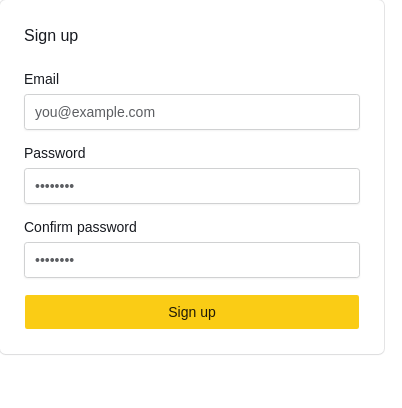
Test: RegisterForm › shows an error when the password is too short
The width and height of the screenshot is (402, 408).
Type "a@example.com" into the field labelled "Email" at x=192, y=112, box [24,94,360,130]
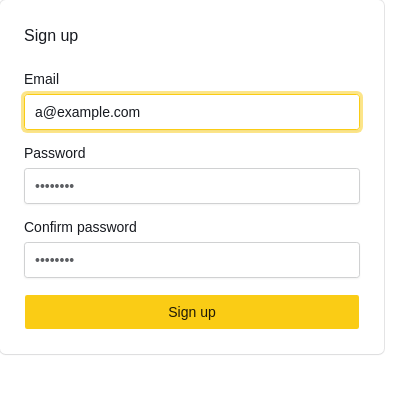
Type "short" into the password field labelled "Password" at x=192, y=186, box [24,168,360,204]
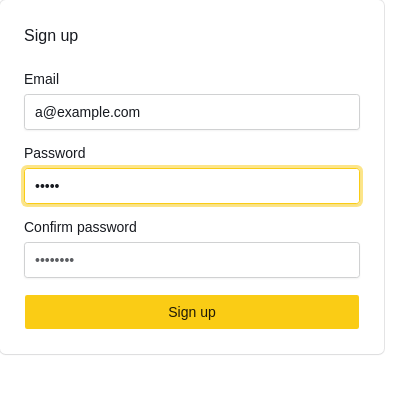
Type "short" into the password field labelled "Confirm password" at x=192, y=260, box [24,242,360,278]
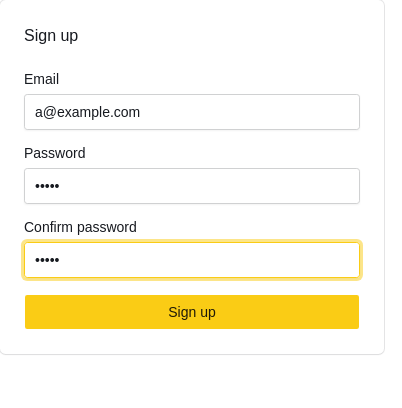
Click the button "Sign up" at x=192, y=312, box [24,294,360,330]
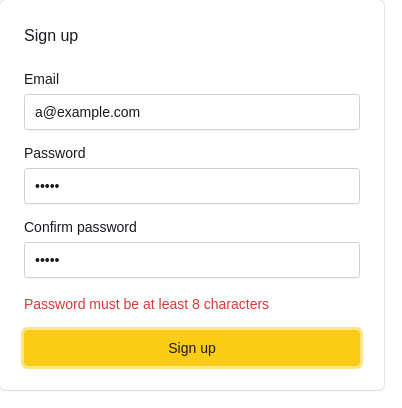
Expected: the text "Password must be at least 8 characters" is shown, [24,296,269,312]
